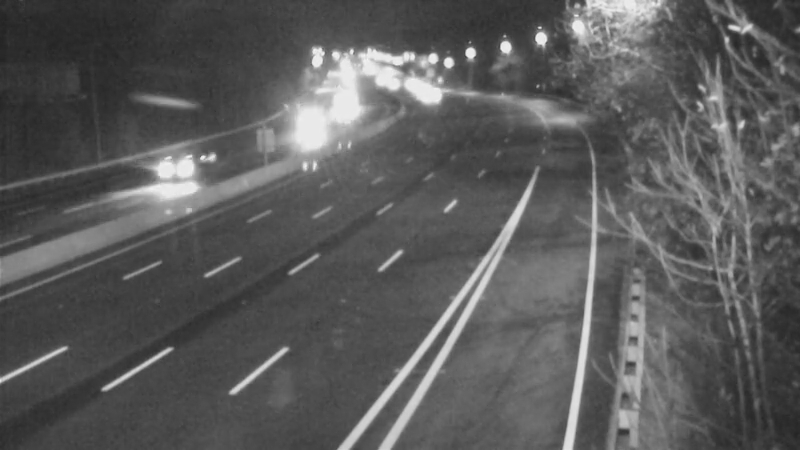vehicle: (144, 125, 224, 205), (397, 63, 447, 113), (406, 74, 456, 124), (283, 105, 333, 155), (322, 81, 372, 131)
